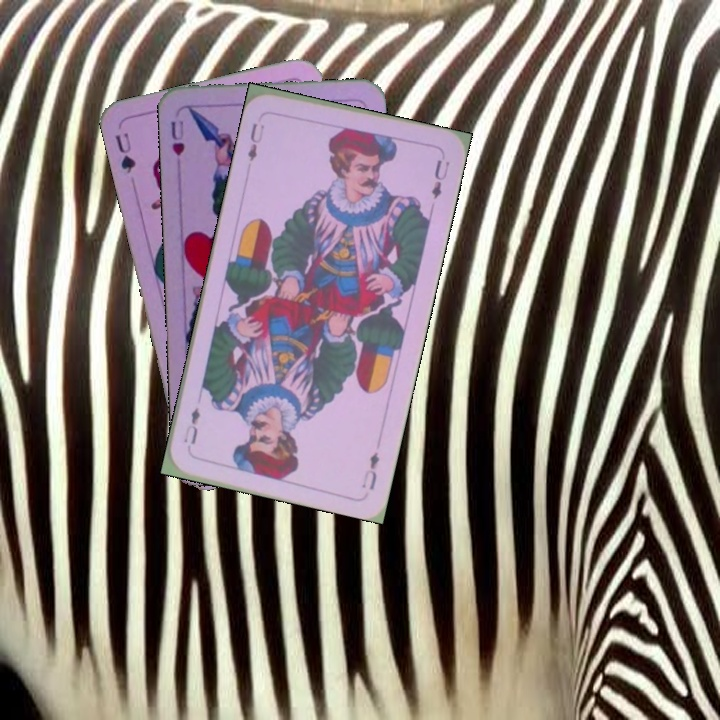EU: (357, 448, 382, 493), (243, 119, 267, 165)
GU: (111, 129, 139, 176)
HU: (166, 116, 187, 159)
